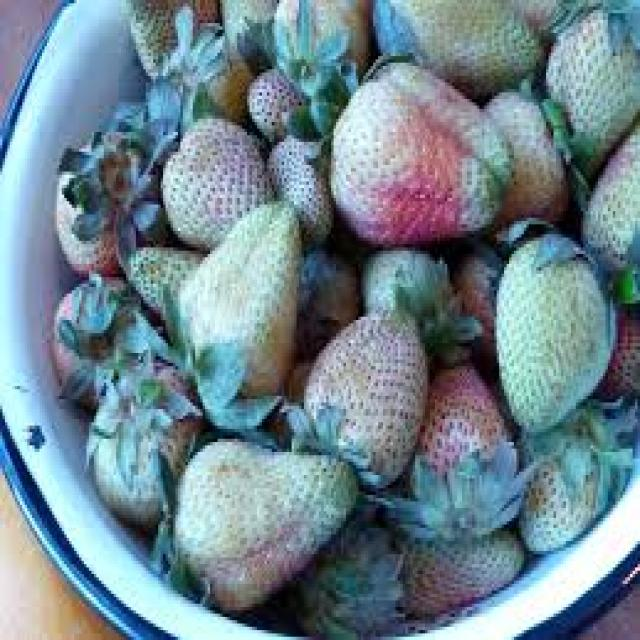immature: (331, 62, 518, 249), (170, 438, 360, 616), (181, 203, 301, 401), (497, 240, 615, 429), (303, 311, 429, 483), (94, 365, 198, 530), (375, 0, 545, 97), (546, 8, 640, 173), (163, 117, 274, 250)
